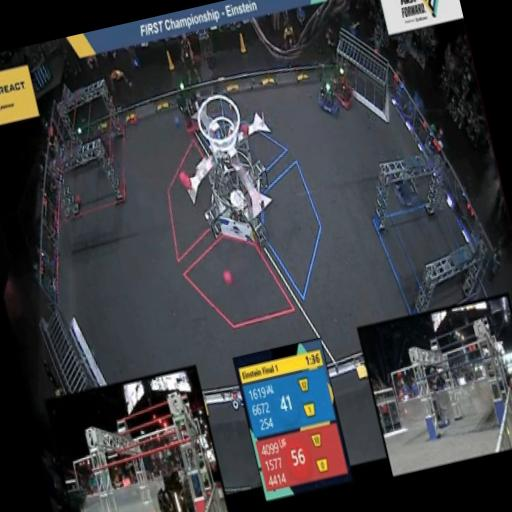robot: (72, 112, 120, 176), (386, 156, 424, 215), (171, 80, 210, 136), (330, 64, 360, 116), (312, 76, 344, 122)
